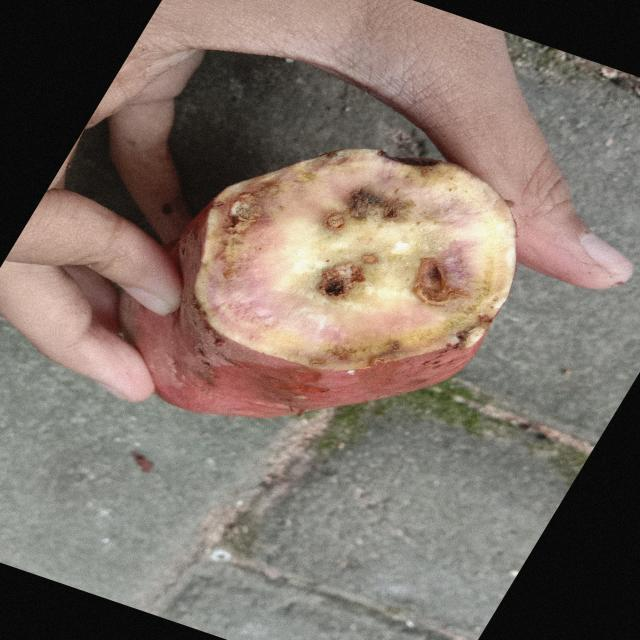Sick Sweet Potato_Tuber Rot: (180, 149, 515, 370)
